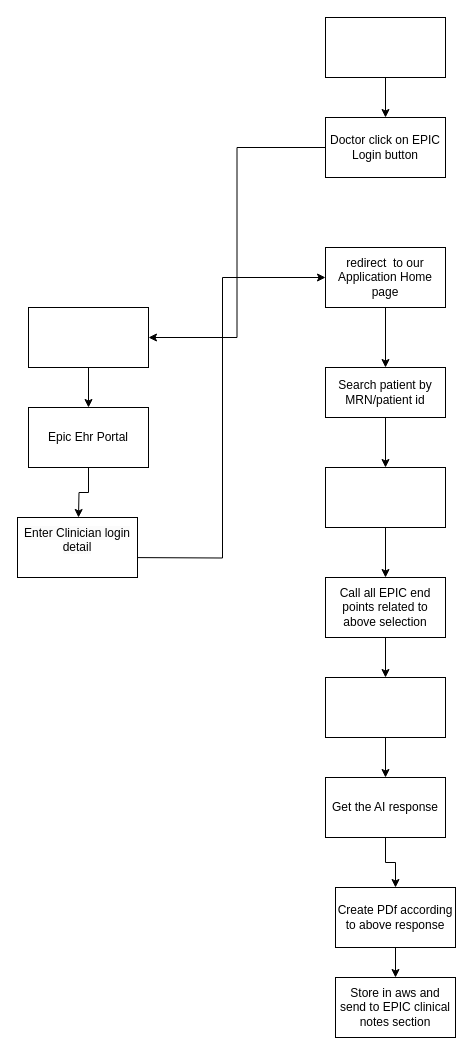
Image size: 473x1055. Some labels were removed from this diagram. Here are the shapes that lost their labels. From the top down, the centre of each, then its label:
At [385,47]: "Auth work flow with clinician".
At [88,337]: "Call EPI URl with client id and our applicaiton url".
At [385,497]: "Select Workflow Type Admission/Discharge".
At [385,707]: "Prepare data in structure format and send to AI".
